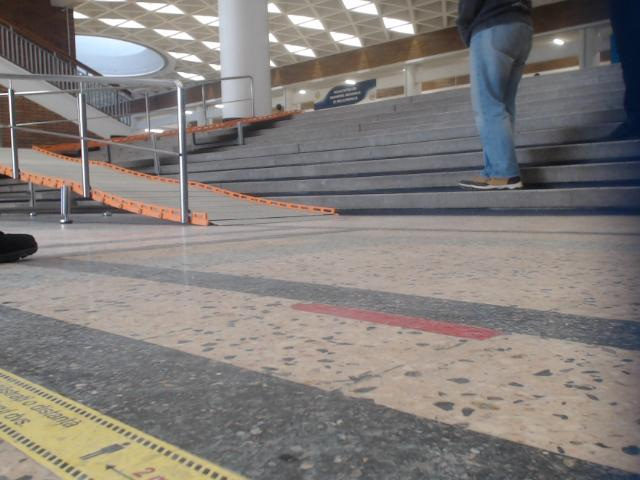rampUp: (18, 148, 181, 222), (185, 182, 333, 224), (0, 147, 14, 175)
ramps-railing: (0, 72, 183, 131), (70, 76, 91, 194), (175, 81, 190, 223), (74, 136, 89, 193), (71, 135, 122, 145), (6, 113, 21, 137), (130, 145, 156, 150), (159, 150, 173, 152)
